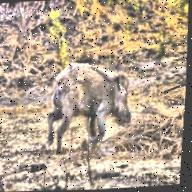boar: (23, 36, 151, 137)
